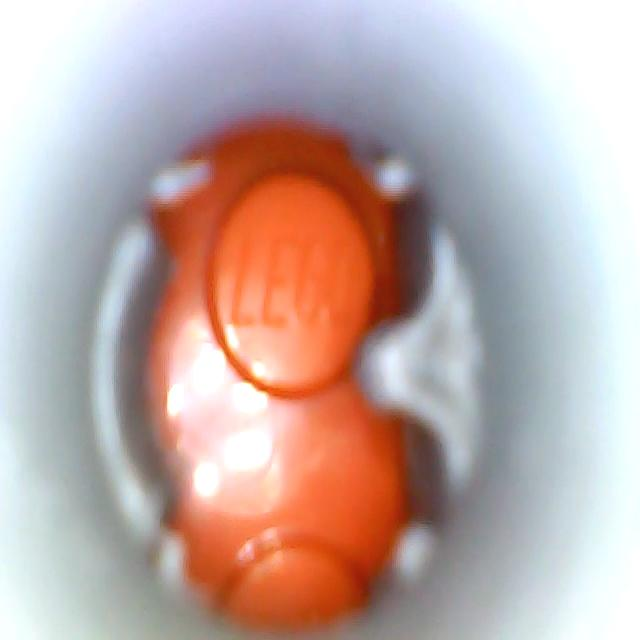studs: (210, 176, 375, 393), (221, 527, 369, 628)
